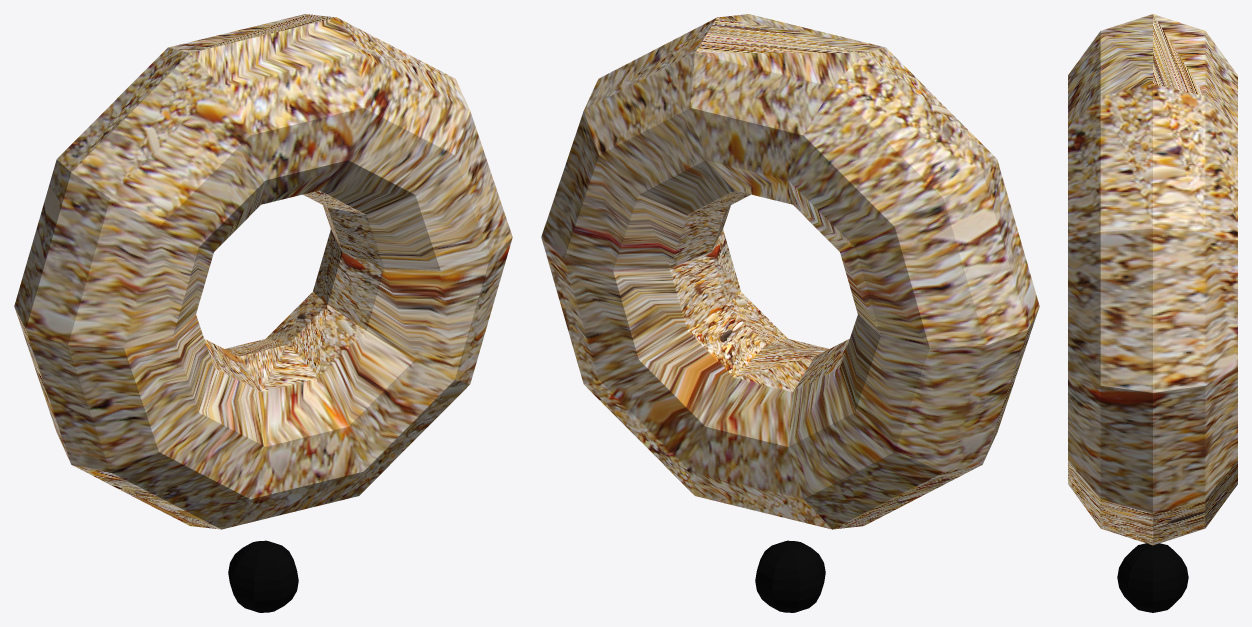
Rendered from Ceral.fbx.
3 views of the same model, side by side, from view 1: azimuth 30°, elevation 25°; view 2: azimuth 150°, elevation 25°; view 3: azimuth 270°, elevation 25° (orthographic). The views are drawn at different scales.
Visible parts, largest first — view 1: Cereal2, feet; view 2: Cereal2, feet; view 3: Cereal2, feet.
Boxes of the visible parts, <box> form: Cereal2: <box>14,14,512,529</box>; feet: <box>228,540,298,612</box>; Cereal2: <box>541,14,1039,529</box>; feet: <box>755,540,825,612</box>; Cereal2: <box>1068,14,1237,545</box>; feet: <box>1117,543,1188,612</box>.
Size of the model in its own units: 0.15 by 0.1734 by 0.0476.
Materials: 1 (1 with a texture image).
